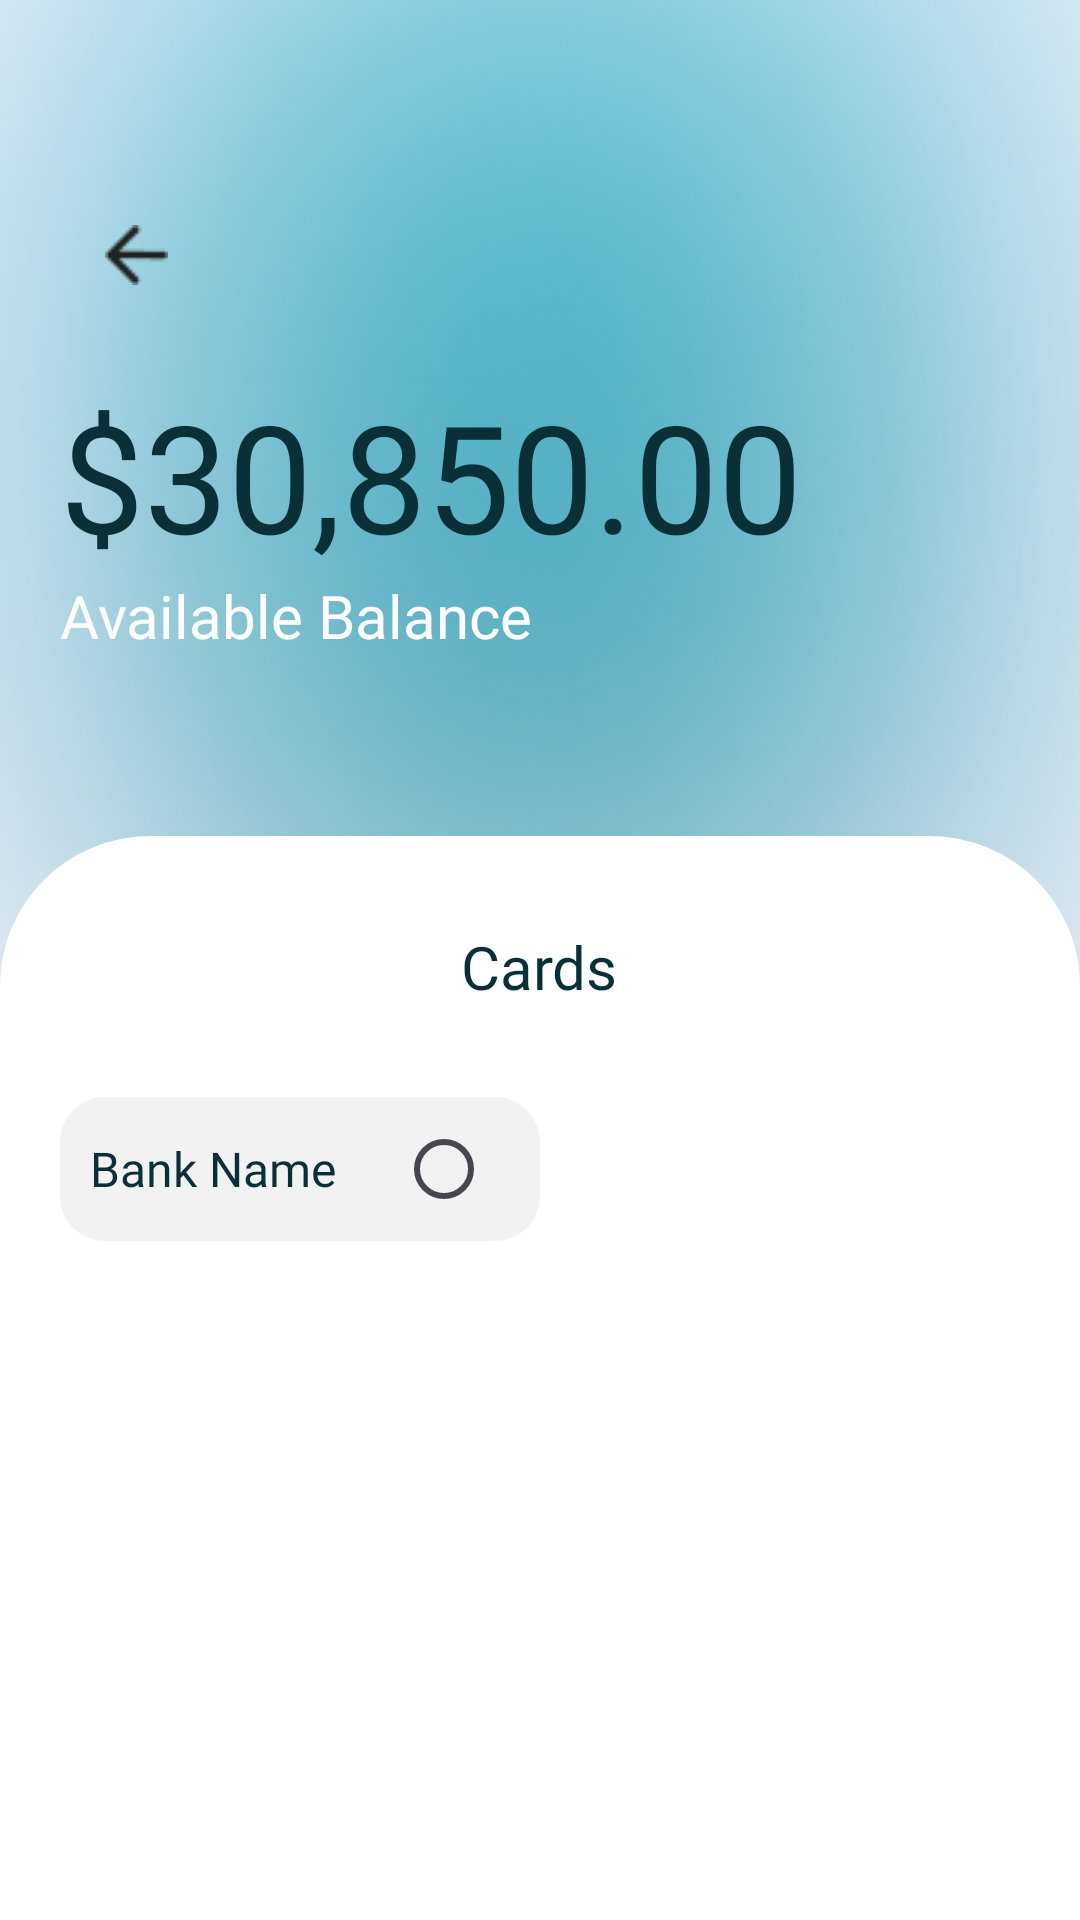

Icons on this 1080*1920 Android screen, each with its box as (x1, y1, x2, y2):
Back: (75, 195, 174, 315)
